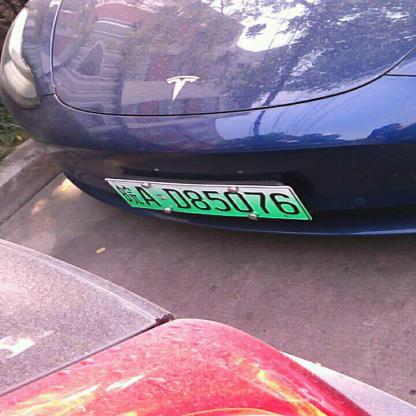lp: (106, 180, 309, 218)
